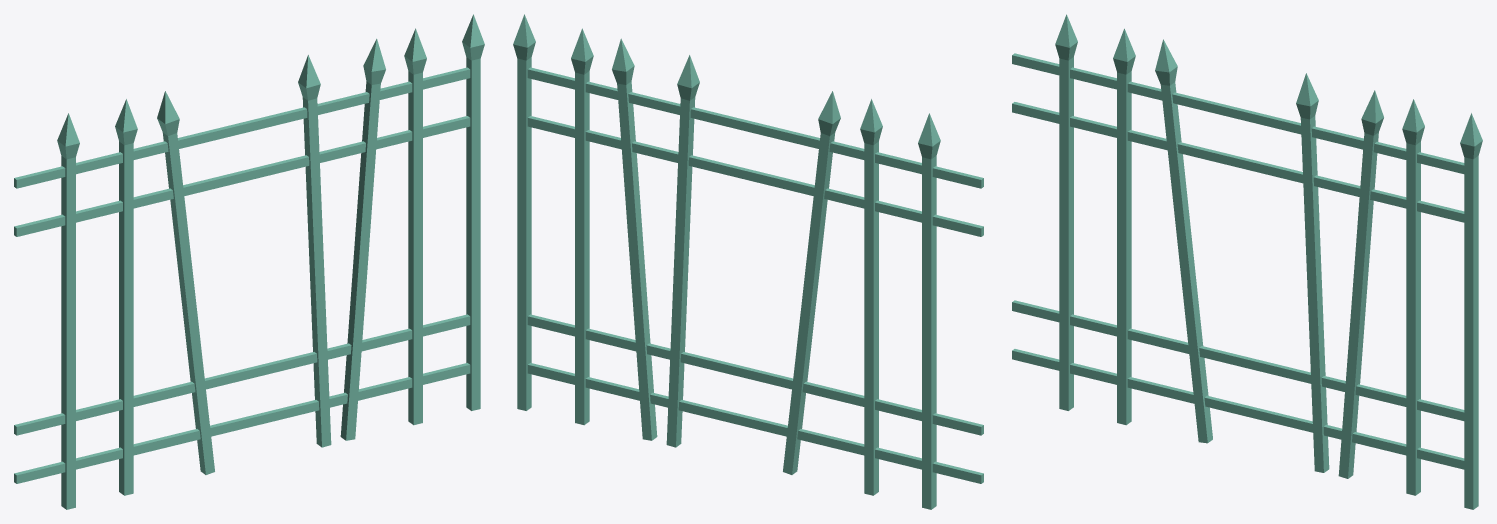
The model's file is fenceIronOpening.fbx.
3 views of the same model, side by side, from view 1: azimuth 30°, elevation 25°; view 2: azimuth 150°, elevation 25°; view 3: azimuth 330°, elevation 25° (orthographic).
Parts seen in each view (by area): view 1: bar (×11); view 2: bar (×11); view 3: bar (×11).
Boxes of the visible parts, x1,y1,x2,y2 form: bar (×11): [14, 14, 484, 509]; bar (×11): [513, 14, 983, 509]; bar (×11): [1012, 14, 1482, 509].
Bounding box in the file's own units: 10.06 × 8.14 × 0.314.
